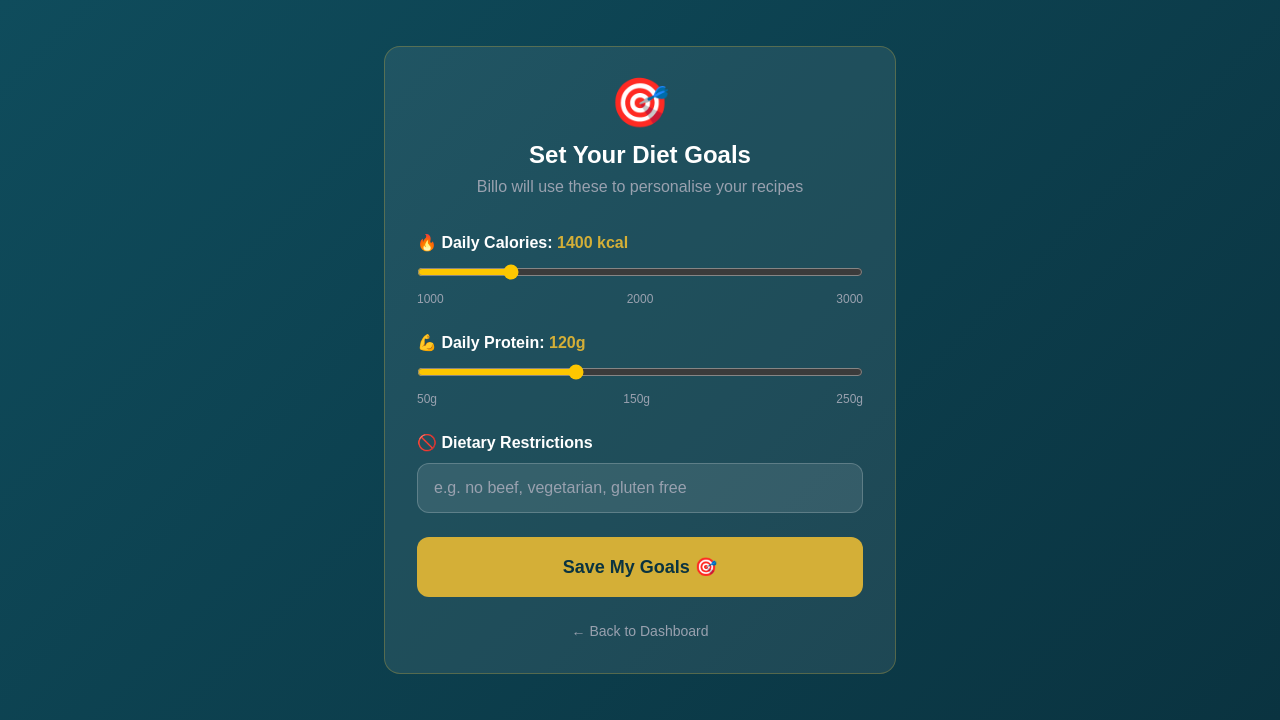
Scenario: Onboarding › shows success message after save
Check: the heading "Set Your Diet Goals" is shown, box [529,141,751,168]
Click the button "Save My Goals 🎯".
click(640, 567)  # box [417,537,863,597]
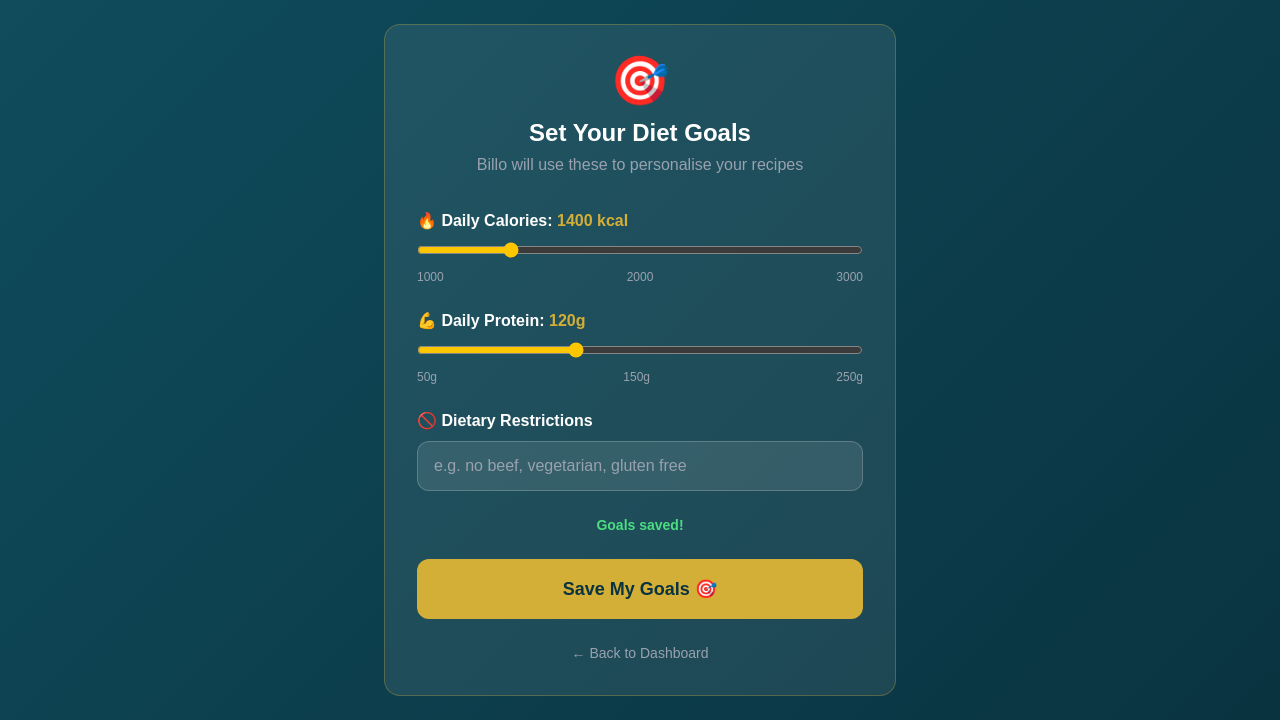
Check: the text "Goals saved!" is shown, box [596,517,684,533]
